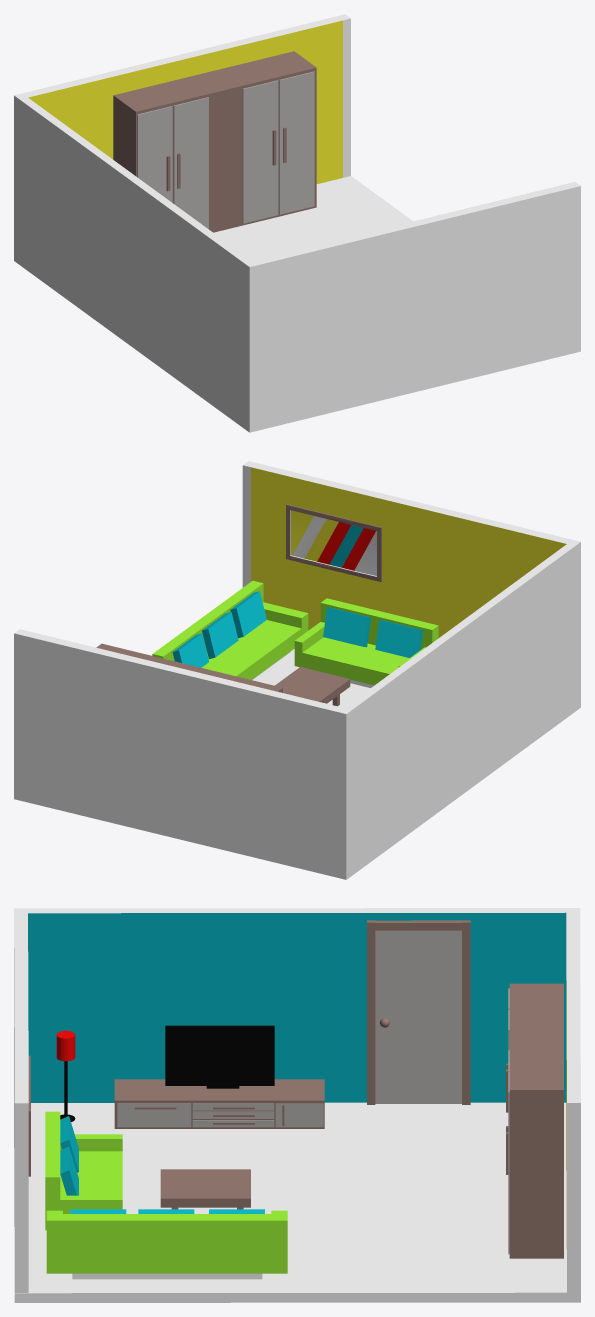
Rendered from apartment.gltf.
3 renders of one model, top to bottom at view 1: azimuth 30°, elevation 25°; view 2: azimuth 150°, elevation 25°; view 3: azimuth 270°, elevation 25°, orthographic. The views are drawn at different scales.
Parts seen in each view (by area): view 1: node-0; view 2: node-0; view 3: node-0.
Boxes of the visible parts, x1=… form: node-0: x1=14, y1=14, x2=580, y2=432; node-0: x1=14, y1=461, x2=580, y2=879; node-0: x1=14, y1=908, x2=580, y2=1302.
Size of the model in its own units: 1366963 by 650679 by 1675801.
